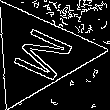M_SE: (2, 22, 76, 85)
